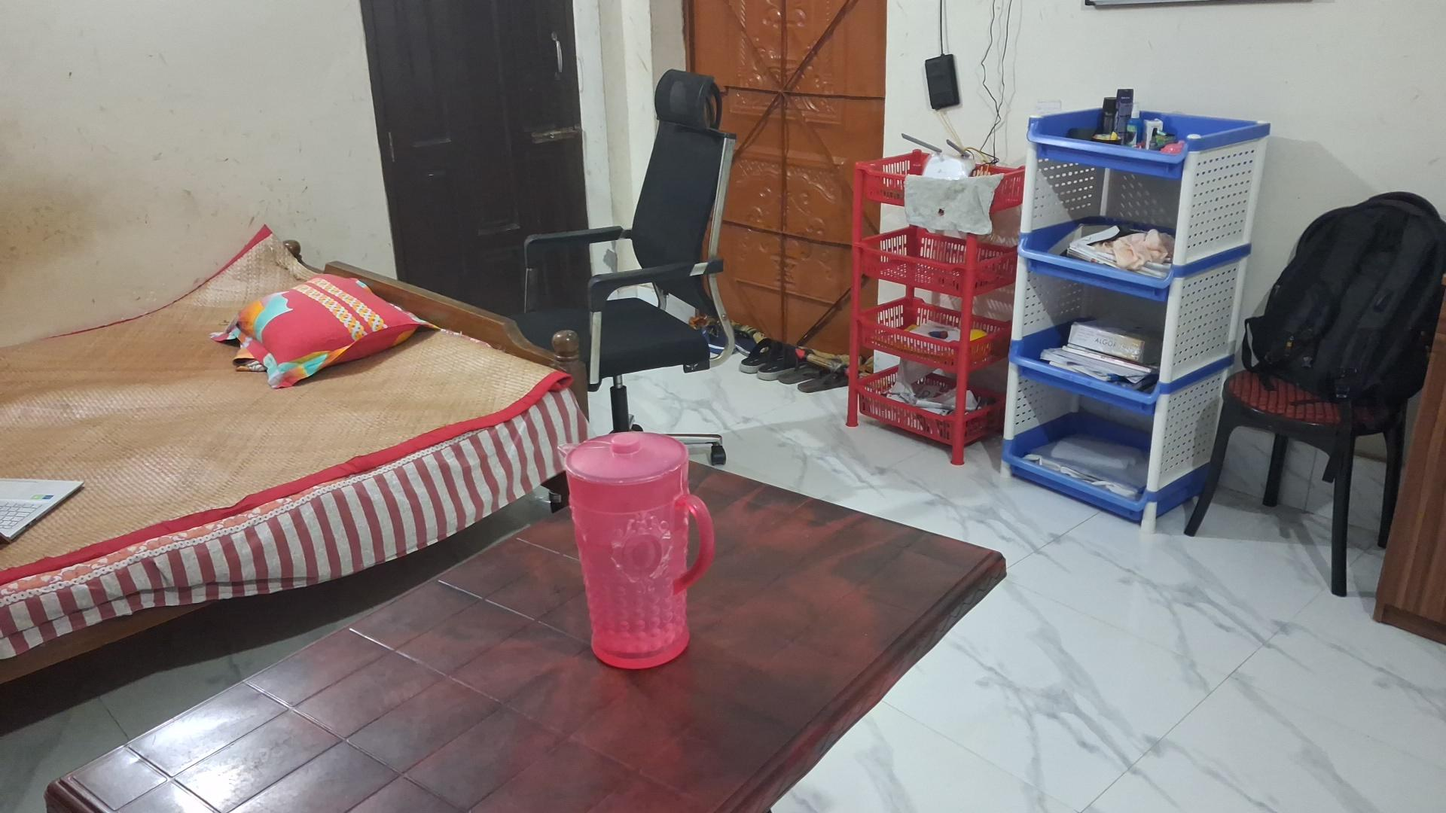Bag: (1245, 195, 1443, 413)
Chair: (1183, 193, 1445, 598), (522, 73, 737, 435)
Door: (687, 2, 887, 379), (362, 5, 613, 305)
Jug: (562, 430, 717, 671)
Pillow: (220, 280, 418, 372)
Rack: (1007, 104, 1232, 540), (850, 142, 1024, 456)
Table: (41, 459, 1004, 813)
